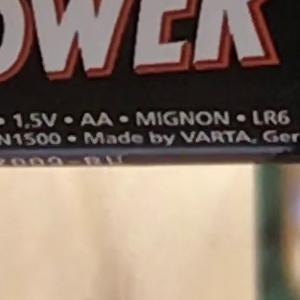keyword: (4, 104, 66, 136), (244, 102, 299, 134)
